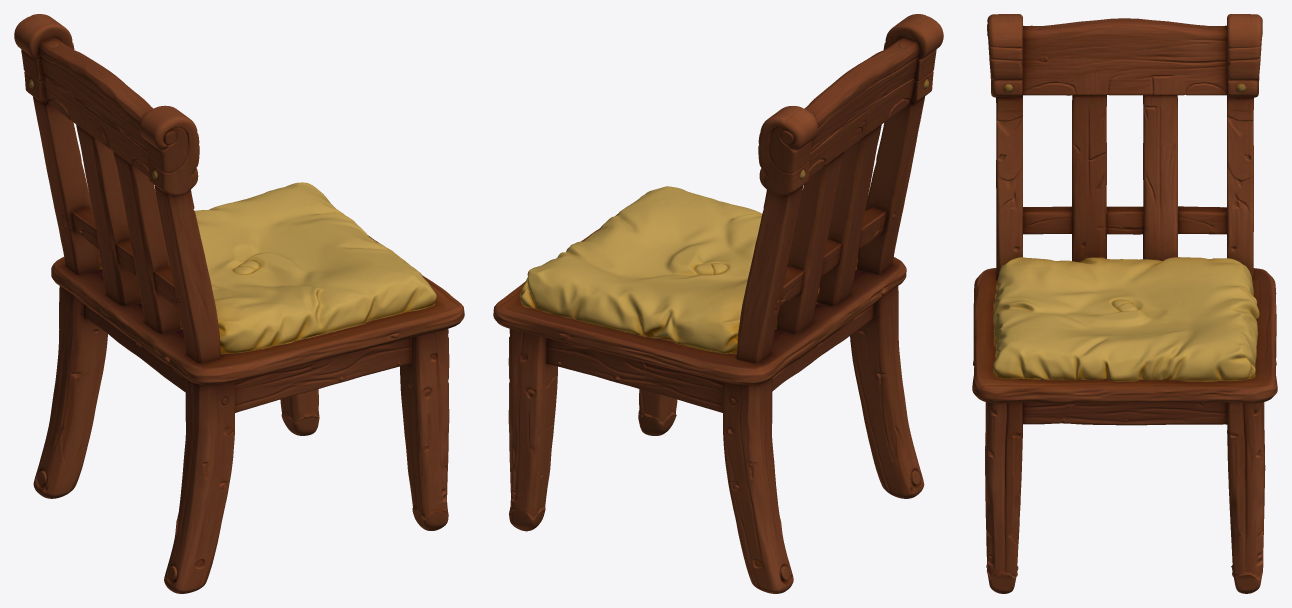
3 renders of one model, left to right at view 1: azimuth 30°, elevation 25°; view 2: azimuth 150°, elevation 25°; view 3: azimuth 270°, elevation 25°, orthographic. The views are drawn at different scales.
Parts seen in each view (by area): view 1: tripo_node_94ca08a6-88f1-4c37-89a7-6bd87728e41b; view 2: tripo_node_94ca08a6-88f1-4c37-89a7-6bd87728e41b; view 3: tripo_node_94ca08a6-88f1-4c37-89a7-6bd87728e41b.
Part boxes in pixels (bbox=[...]): tripo_node_94ca08a6-88f1-4c37-89a7-6bd87728e41b: bbox=[14, 14, 464, 593]; tripo_node_94ca08a6-88f1-4c37-89a7-6bd87728e41b: bbox=[493, 14, 943, 593]; tripo_node_94ca08a6-88f1-4c37-89a7-6bd87728e41b: bbox=[972, 14, 1277, 593].
Size of the model in its own units: 0.6712 by 0.9999 by 0.6087.
Materials: 1 (1 with a texture image).
